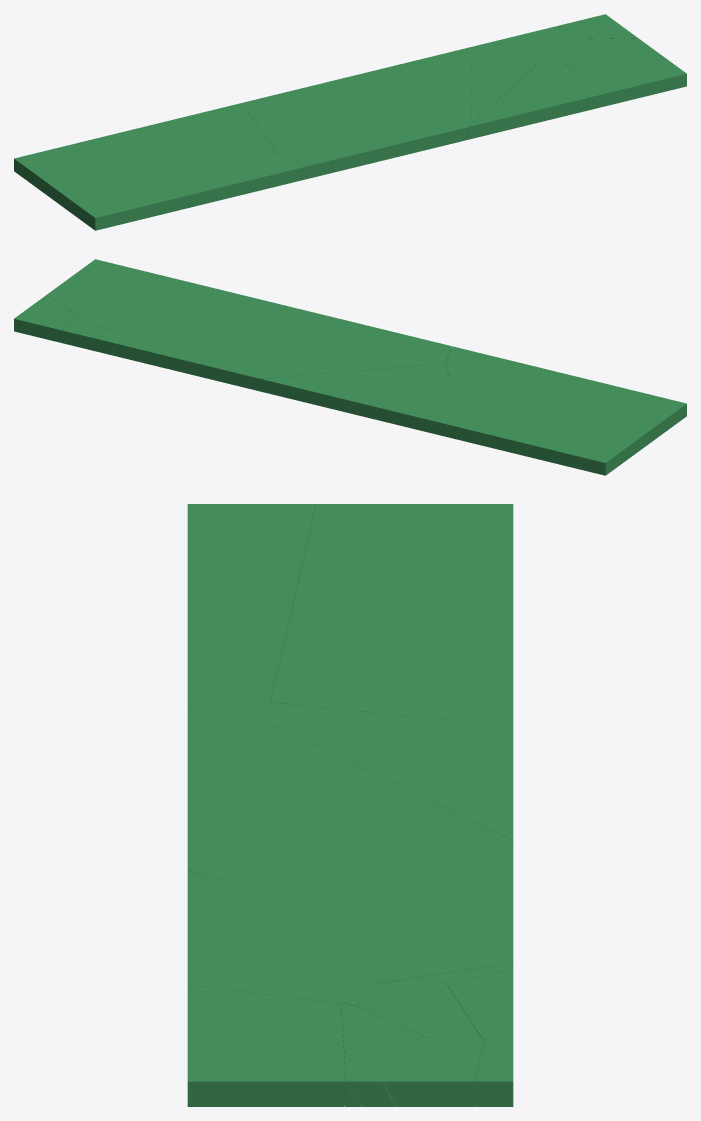
The model's file is narrow_floor_fractured.fbx.
3 views of the same model, one above another, from view 1: azimuth 30°, elevation 25°; view 2: azimuth 150°, elevation 25°; view 3: azimuth 270°, elevation 25° (orthographic). The views are drawn at different scales.
Parts seen in each view (by area): view 1: narrow floor_cell.004_cell.005, narrow floor_cell.001, narrow floor_cell, narrow floor_cell.004_cell.001, narrow floor_cell.002, narrow floor_cell.004_cell, narrow floor_cell.004_cell.004, narrow floor_cell.003_cell.006, narrow floor_cell.004_cell.002, narrow floor_cell.003_cell.001, narrow floor_cell.003_cell.005, narrow floor_cell.003_cell.003 (+3 smaller); view 2: narrow floor_cell.001, narrow floor_cell.004_cell.005, narrow floor_cell, narrow floor_cell.004_cell, narrow floor_cell.002, narrow floor_cell.004_cell.001, narrow floor_cell.004_cell.004, narrow floor_cell.003_cell.001, narrow floor_cell.003_cell.006, narrow floor_cell.003_cell, narrow floor_cell.003_cell.005, narrow floor_cell.003_cell.003 (+3 smaller); view 3: narrow floor_cell.004_cell.005, narrow floor_cell.001, narrow floor_cell, narrow floor_cell.002, narrow floor_cell.004_cell, narrow floor_cell.004_cell.001, narrow floor_cell.004_cell.004, narrow floor_cell.003_cell.005, narrow floor_cell.003_cell.006, narrow floor_cell.003_cell.003, narrow floor_cell.003_cell.001, narrow floor_cell.003_cell (+3 smaller).
Part boxes in pixels (bbox=[...]): narrow floor_cell.004_cell.005: bbox=[298, 47, 472, 171]; narrow floor_cell.001: bbox=[14, 103, 277, 206]; narrow floor_cell: bbox=[63, 153, 306, 230]; narrow floor_cell.004_cell.001: bbox=[466, 63, 587, 140]; narrow floor_cell.002: bbox=[569, 45, 686, 110]; narrow floor_cell.004_cell: bbox=[242, 74, 358, 149]; narrow floor_cell.004_cell.004: bbox=[471, 44, 537, 124]; narrow floor_cell.003_cell.006: bbox=[522, 31, 581, 62]; narrow floor_cell.004_cell.002: bbox=[272, 145, 335, 178]; narrow floor_cell.003_cell.001: bbox=[491, 26, 568, 51]; narrow floor_cell.003_cell.005: bbox=[568, 21, 637, 38]; narrow floor_cell.003_cell.003: bbox=[580, 38, 646, 52]; narrow floor_cell.001: bbox=[377, 369, 654, 475]; narrow floor_cell.004_cell.005: bbox=[143, 312, 452, 388]; narrow floor_cell: bbox=[463, 352, 686, 439]; narrow floor_cell.004_cell: bbox=[249, 363, 449, 419]; narrow floor_cell.002: bbox=[56, 259, 194, 306]; narrow floor_cell.004_cell.001: bbox=[137, 283, 311, 318]; narrow floor_cell.004_cell.004: bbox=[136, 312, 307, 362]; narrow floor_cell.003_cell.001: bbox=[59, 324, 131, 359]; narrow floor_cell.003_cell.006: bbox=[67, 309, 135, 330]; narrow floor_cell.003_cell: bbox=[14, 311, 64, 342]; narrow floor_cell.003_cell.005: bbox=[24, 295, 77, 324]; narrow floor_cell.003_cell.003: bbox=[47, 288, 86, 315]; narrow floor_cell.004_cell.005: bbox=[187, 721, 513, 950]; narrow floor_cell.001: bbox=[270, 504, 513, 726]; narrow floor_cell: bbox=[187, 504, 315, 709]; narrow floor_cell.002: bbox=[187, 984, 345, 1106]; narrow floor_cell.004_cell: bbox=[266, 706, 513, 840]; narrow floor_cell.004_cell.001: bbox=[187, 870, 379, 1004]; narrow floor_cell.004_cell.004: bbox=[194, 872, 513, 982]; narrow floor_cell.003_cell.005: bbox=[383, 1038, 485, 1106]; narrow floor_cell.003_cell.006: bbox=[356, 983, 481, 1037]; narrow floor_cell.003_cell.003: bbox=[344, 1037, 436, 1106]; narrow floor_cell.003_cell.001: bbox=[446, 969, 513, 1038]; narrow floor_cell.003_cell: bbox=[474, 1034, 513, 1106].
Size of the model in its own units: 891 by 18.28 by 212.
